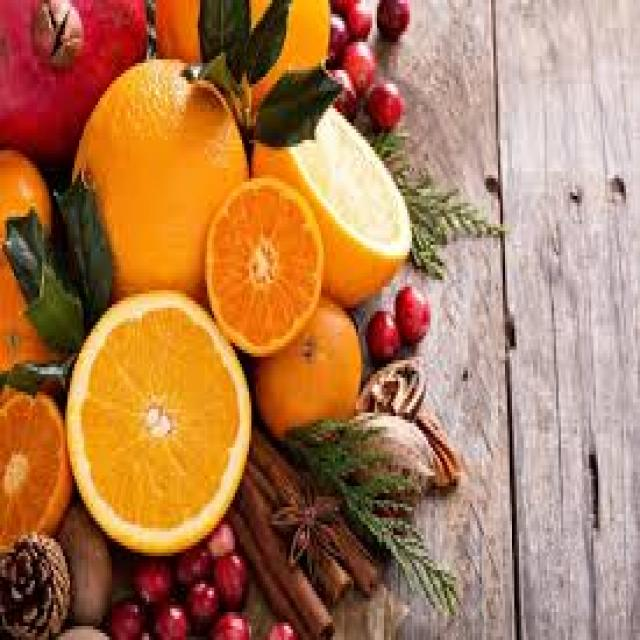organic waste: (63, 287, 247, 556), (63, 52, 247, 294), (282, 413, 460, 619), (247, 94, 407, 304), (356, 126, 503, 276), (0, 0, 149, 147), (247, 430, 379, 595), (149, 0, 328, 119), (205, 172, 321, 354), (254, 287, 354, 437), (235, 482, 331, 636), (0, 147, 63, 381), (249, 465, 349, 602), (0, 388, 70, 546), (228, 511, 310, 636), (340, 402, 430, 504), (0, 524, 67, 636), (56, 504, 107, 619), (394, 276, 428, 346), (105, 584, 146, 637), (130, 556, 170, 605), (174, 538, 212, 588), (365, 308, 396, 360), (344, 35, 375, 87), (363, 84, 400, 126), (186, 577, 217, 626), (214, 552, 244, 602), (149, 594, 184, 636), (326, 63, 354, 115), (374, 0, 407, 38), (207, 518, 235, 560), (212, 605, 244, 637), (342, 0, 368, 35), (326, 10, 344, 60), (263, 612, 289, 637), (56, 626, 105, 637)
